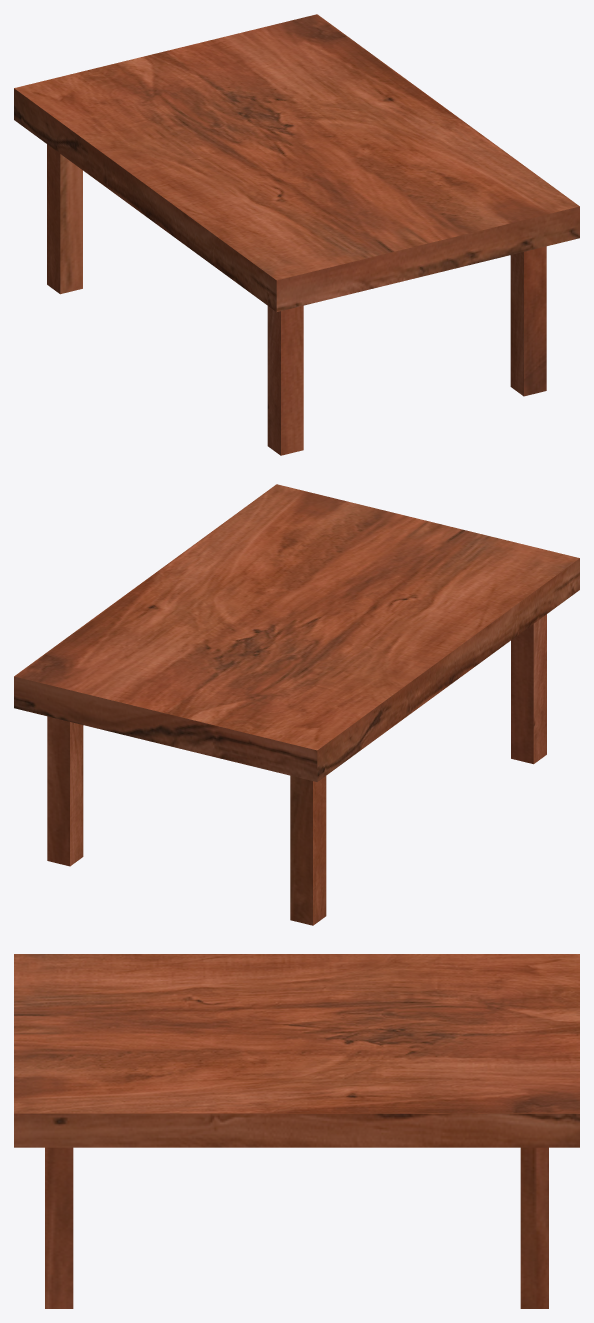
The model's file is coffee_table.fbx.
3 views of the same model, one above another, from view 1: azimuth 30°, elevation 25°; view 2: azimuth 150°, elevation 25°; view 3: azimuth 270°, elevation 25° (orthographic). The views are drawn at different scales.
Visible parts, largest first — view 1: CoffeeTable; view 2: CoffeeTable; view 3: CoffeeTable.
Part boxes in pixels (left/top/right/bottom): CoffeeTable: left=14, top=14, right=579, bottom=455; CoffeeTable: left=14, top=484, right=579, bottom=925; CoffeeTable: left=14, top=954, right=579, bottom=1308.
Size of the model in its own units: 100 by 60 by 150.
Materials: 1 (1 with a texture image).
